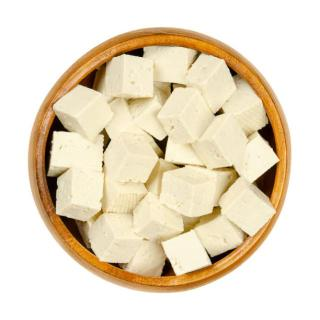Tahu: (43, 42, 286, 288)
